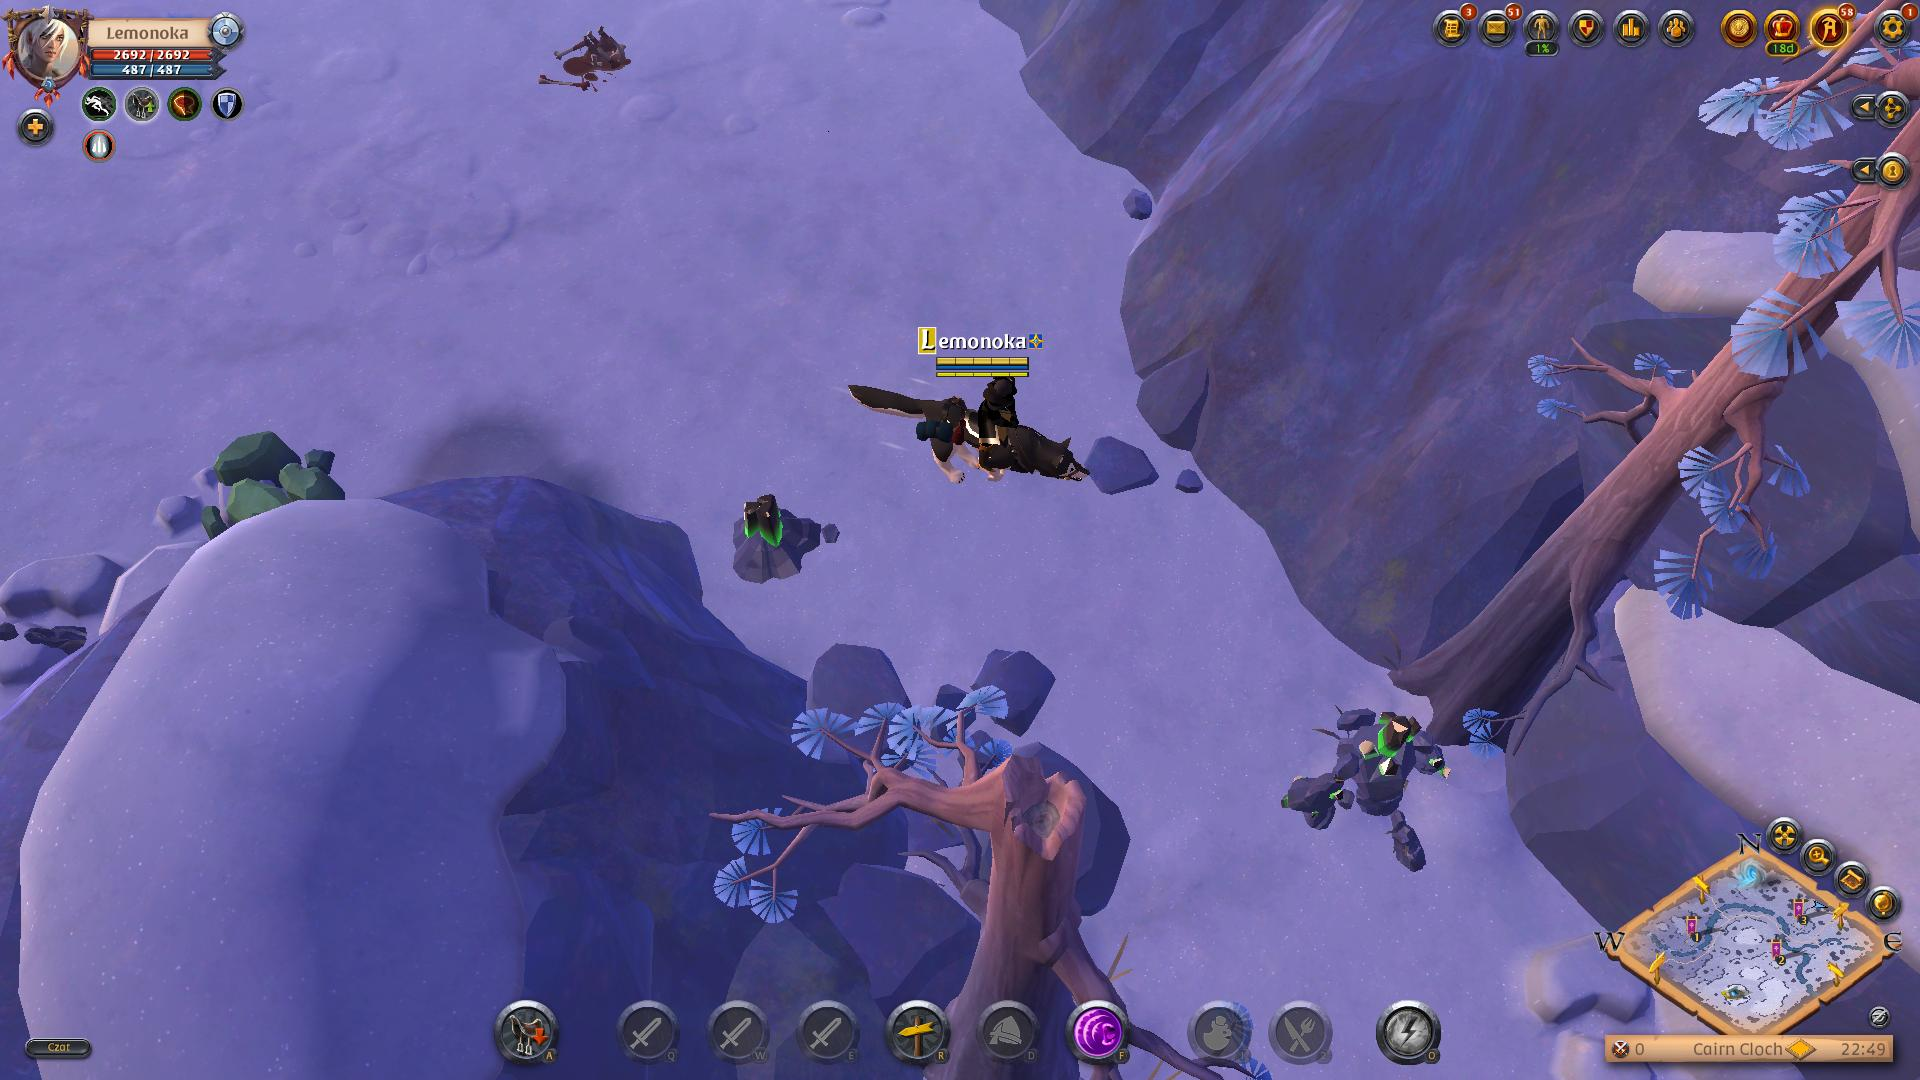ore tier 3: (720, 491, 824, 592)
